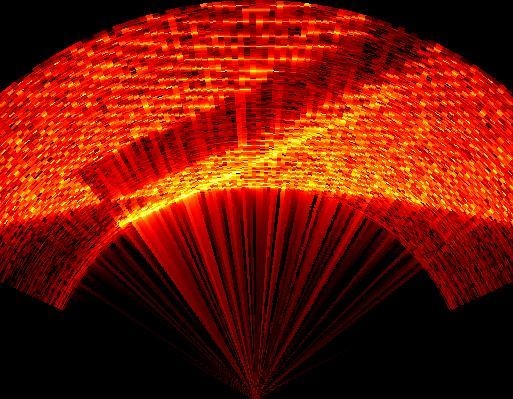pipe: (72, 24, 447, 227)
